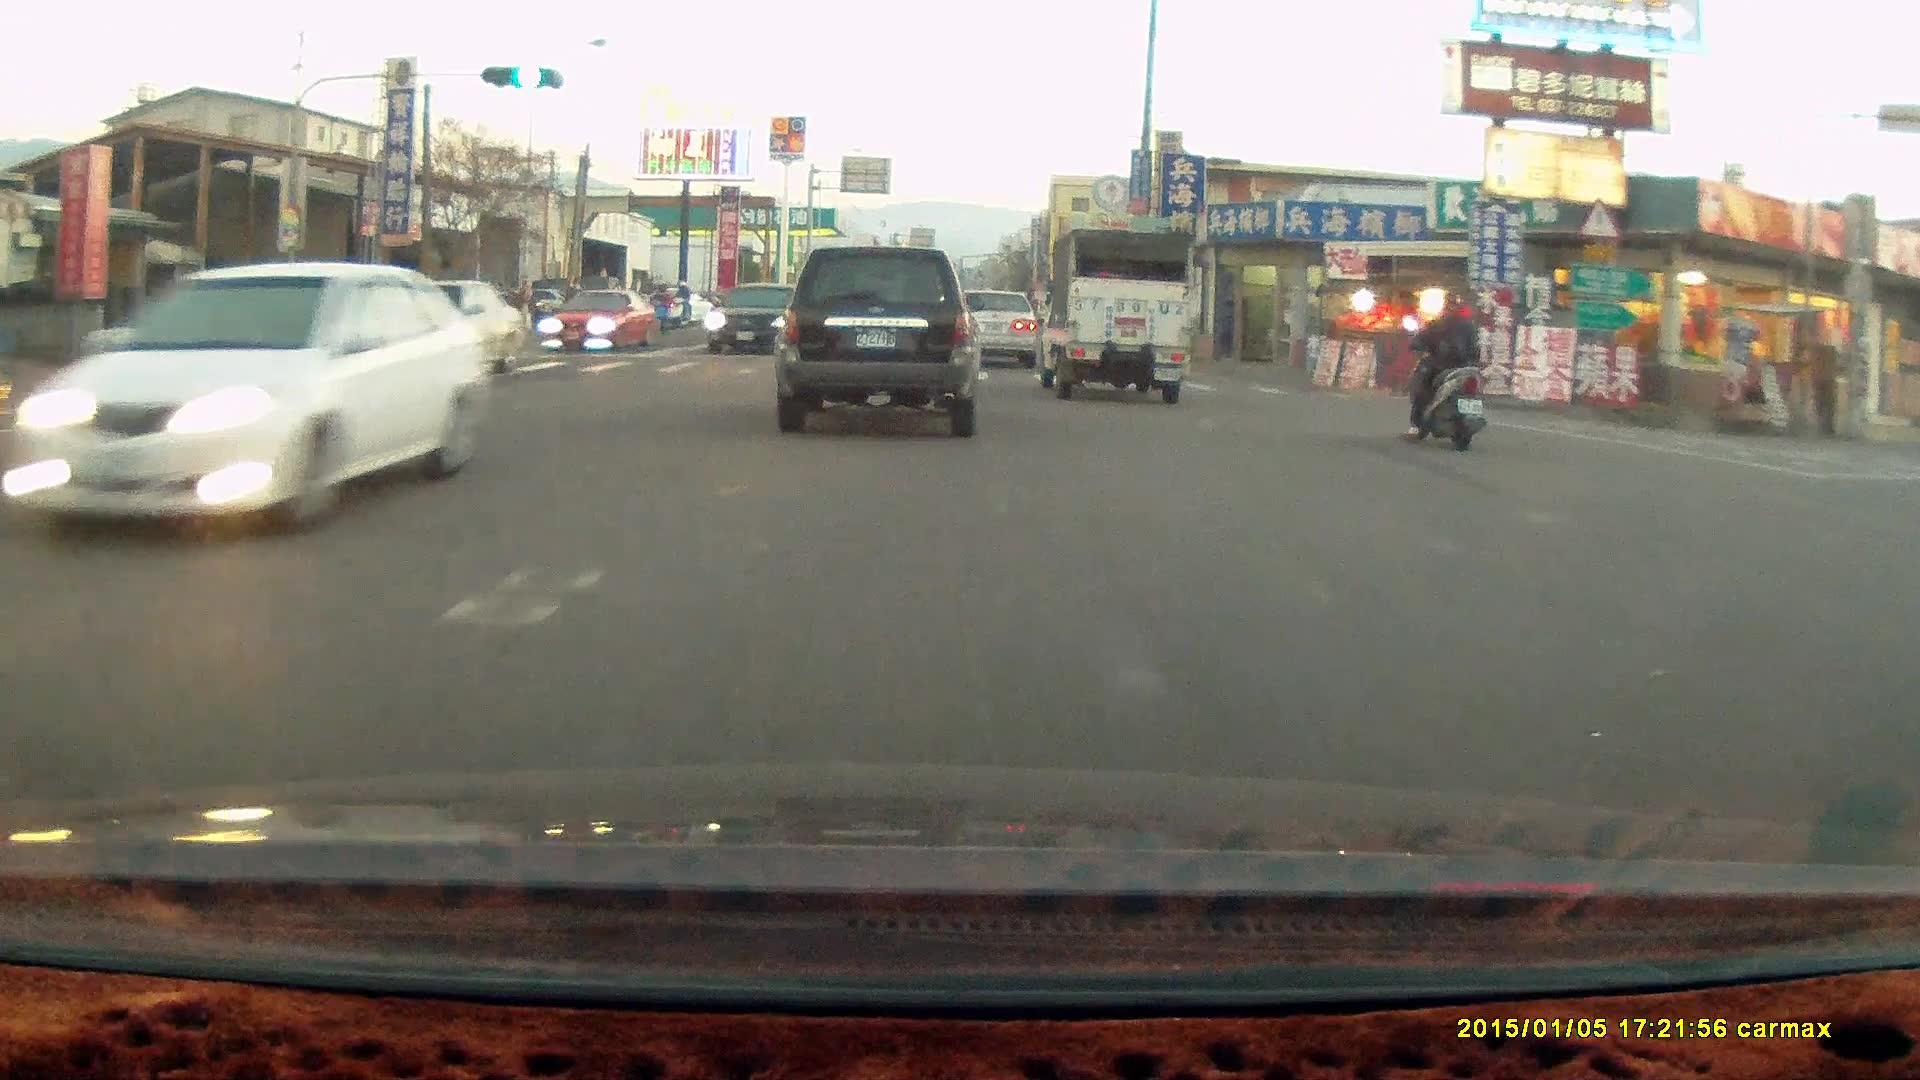rider: (1399, 284, 1486, 445), (662, 279, 693, 329)
vehicle: (41, 260, 475, 546), (771, 244, 985, 436), (1030, 227, 1192, 403), (306, 284, 511, 399), (704, 281, 818, 355), (151, 279, 304, 334), (944, 286, 1037, 368), (952, 289, 1041, 371), (554, 285, 656, 354)
